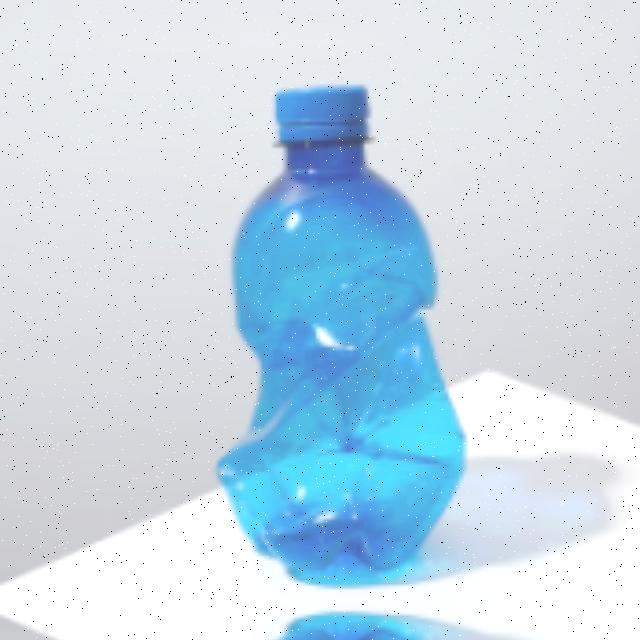Plastic: (207, 69, 456, 597), (206, 601, 455, 640), (206, 0, 455, 11)
